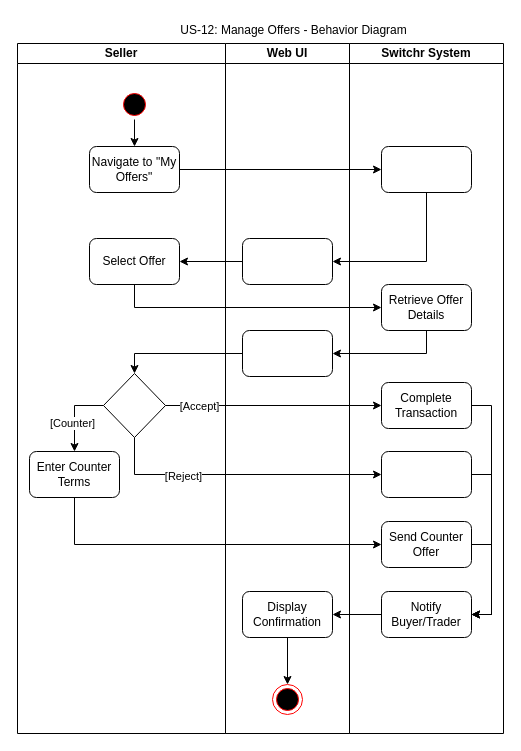
This 521x751 diagram has some shape labels left out. The centre of each missing label's shape, as x and y in pixels:
Choose Action: the point at 134,405
Close Offer: the point at 426,474
Display Offer Details: the point at 287,353
Display Offers List: the point at 287,261
Retrieve Incoming & Outgoing Offers: the point at 426,169
